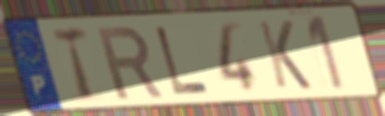1: (303, 13, 347, 95)
4: (216, 20, 260, 95)
K: (255, 19, 315, 92)
L: (152, 25, 213, 97)
R: (94, 24, 166, 102)
T: (49, 24, 98, 104)
